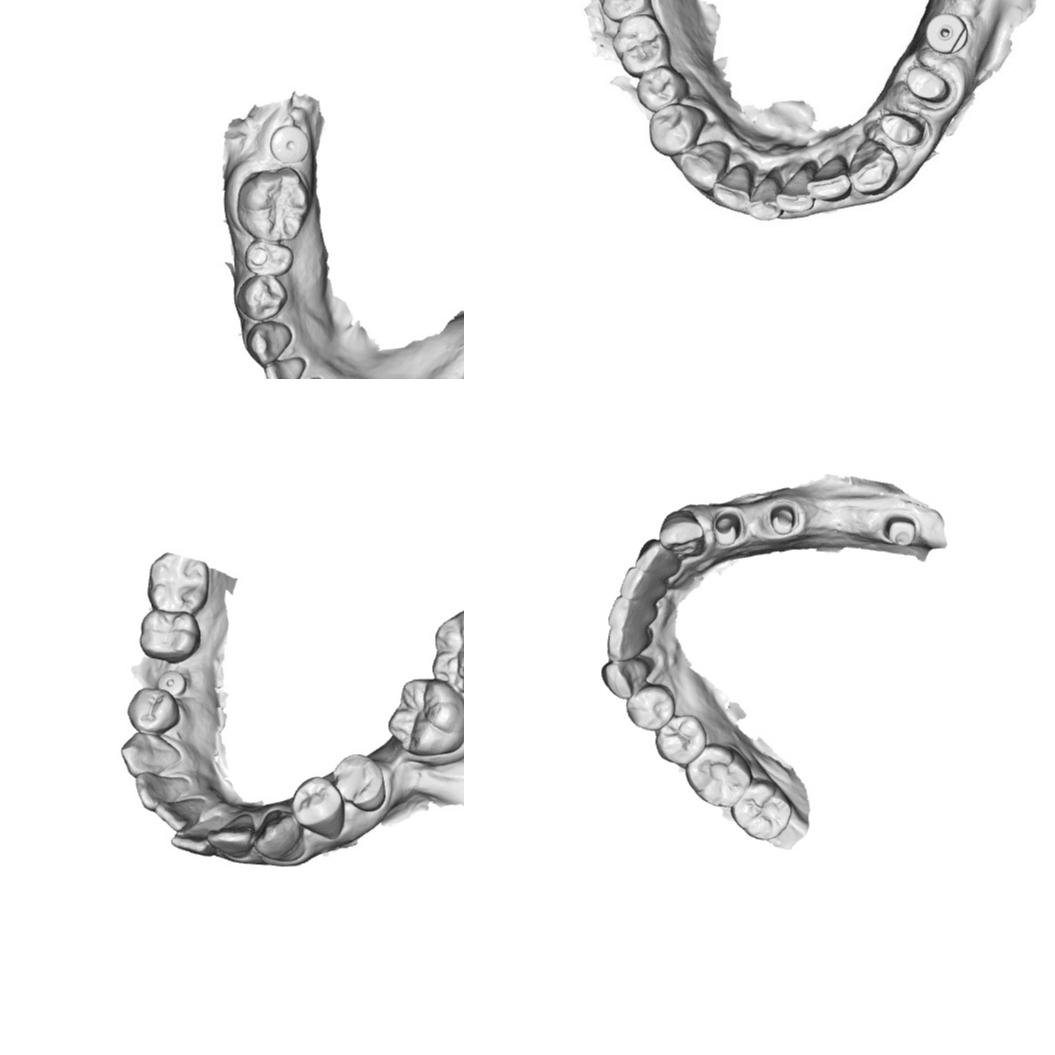abutment: (882, 514, 918, 549), (712, 510, 742, 548), (769, 503, 799, 536)
canine: (252, 808, 308, 863), (847, 138, 897, 199), (120, 731, 182, 777), (677, 141, 728, 193), (244, 320, 294, 366), (659, 508, 705, 558), (600, 658, 650, 700)
crown: (901, 63, 953, 107), (878, 106, 925, 148)
implant: (924, 11, 969, 55), (268, 124, 309, 163), (156, 669, 188, 697)
incisor: (773, 160, 816, 217), (206, 812, 255, 859), (170, 814, 222, 858), (134, 772, 190, 812), (807, 156, 851, 206), (711, 161, 752, 212), (153, 795, 207, 832), (606, 594, 658, 630), (633, 537, 680, 576), (605, 625, 652, 662), (747, 170, 780, 222), (618, 565, 666, 600), (263, 356, 305, 379)
molar: (386, 677, 464, 756), (236, 166, 312, 242), (684, 742, 752, 810), (146, 551, 209, 615), (730, 777, 793, 841), (609, 13, 667, 77), (138, 608, 202, 664), (431, 607, 464, 693), (594, 0, 649, 22)
premolar: (289, 776, 345, 841), (648, 102, 705, 161), (331, 752, 387, 812), (635, 62, 696, 113), (654, 712, 708, 768), (625, 683, 678, 732), (126, 687, 181, 733), (236, 274, 288, 321), (244, 240, 294, 276)
